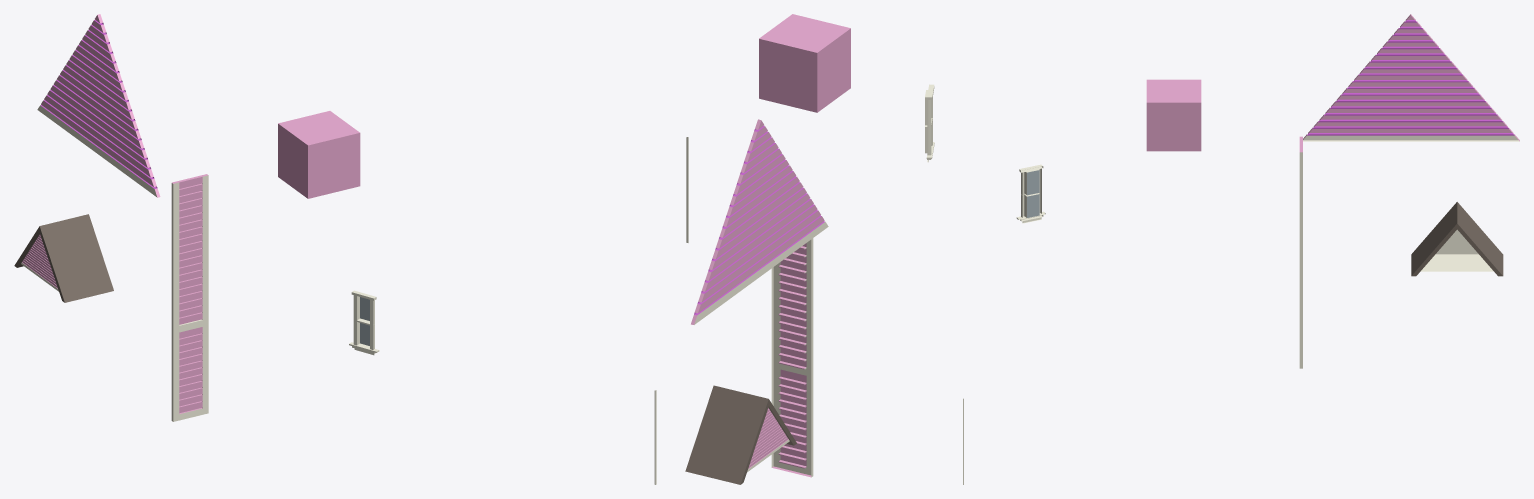
Rendered from detallitos.obj.
The picture shows the model from 3 angles, left to right: view 1: azimuth 30°, elevation 25°; view 2: azimuth 150°, elevation 25°; view 3: azimuth 270°, elevation 25°; orthographic projection. The views are drawn at different scales.
Parts seen in each view (by area): view 1: Plane.071_Plane.077, Plane.001, Plane.047, Plane.085_Plane.082, Plane.137, Plane.002; view 2: Plane.001, Plane.071_Plane.077, Plane.047, Plane.085_Plane.082, Plane.002, Plane.137, Plane.198; view 3: Plane.001, Plane.085_Plane.082, Plane.047, Plane.137, Plane.071_Plane.077.
Part boxes in pixels (box(x1,y1,x2,y2)): Plane.071_Plane.077: box(171, 174, 208, 421); Plane.001: box(37, 14, 160, 197); Plane.047: box(278, 111, 360, 198); Plane.085_Plane.082: box(14, 214, 113, 302); Plane.137: box(349, 290, 379, 355); Plane.002: box(21, 234, 58, 291); Plane.001: box(691, 119, 828, 324); Plane.071_Plane.077: box(771, 238, 813, 477); Plane.047: box(759, 14, 850, 112); Plane.085_Plane.082: box(685, 385, 796, 484); Plane.002: box(747, 408, 789, 472); Plane.137: box(925, 84, 934, 162); Plane.198: box(686, 137, 688, 242); Plane.001: box(1303, 14, 1519, 141); Plane.085_Plane.082: box(1411, 202, 1503, 276); Plane.047: box(1146, 79, 1201, 151); Plane.137: box(1016, 164, 1045, 223); Plane.071_Plane.077: box(1299, 136, 1302, 368).
Bounding box in the file's own units: 3.41 × 3.46 × 5.25.
Materials: 6 (6 with a texture image).
